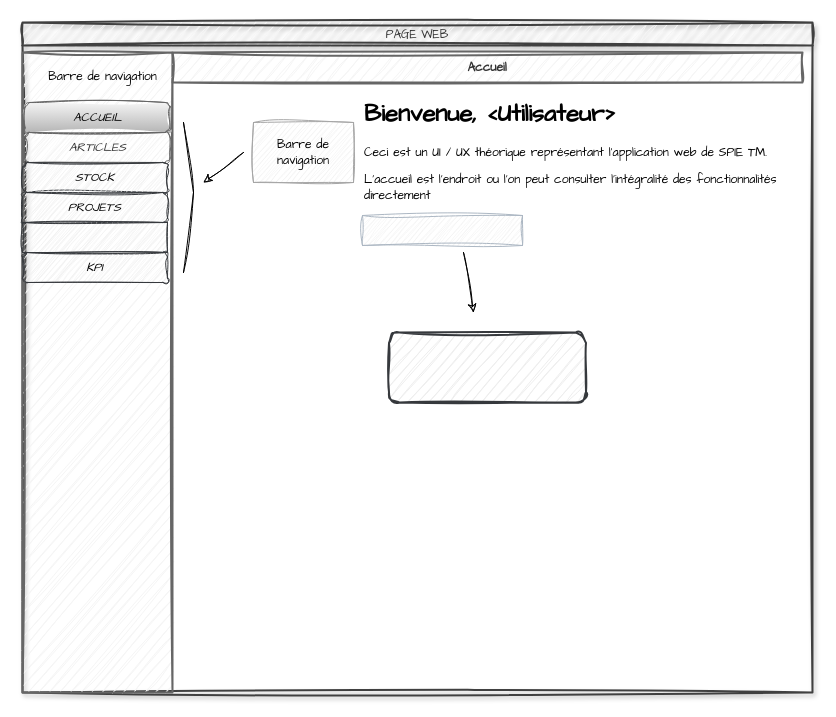
Image size: 836x717. Some labels were removed from this diagram. Each missing label, with the centre of its shape:
"DMC" goes at (95,237).
"Je souhaite une démo" goes at (487,367).
"Visite guidée interactive ?" goes at (442,230).
